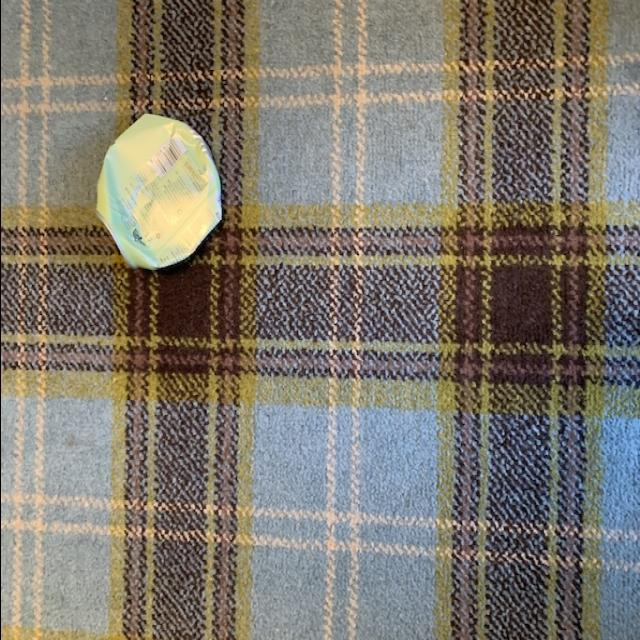Aluminum Can: (84, 109, 222, 291)
